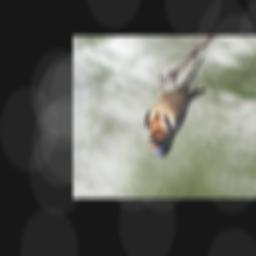Swallow: (143, 55, 205, 158)
